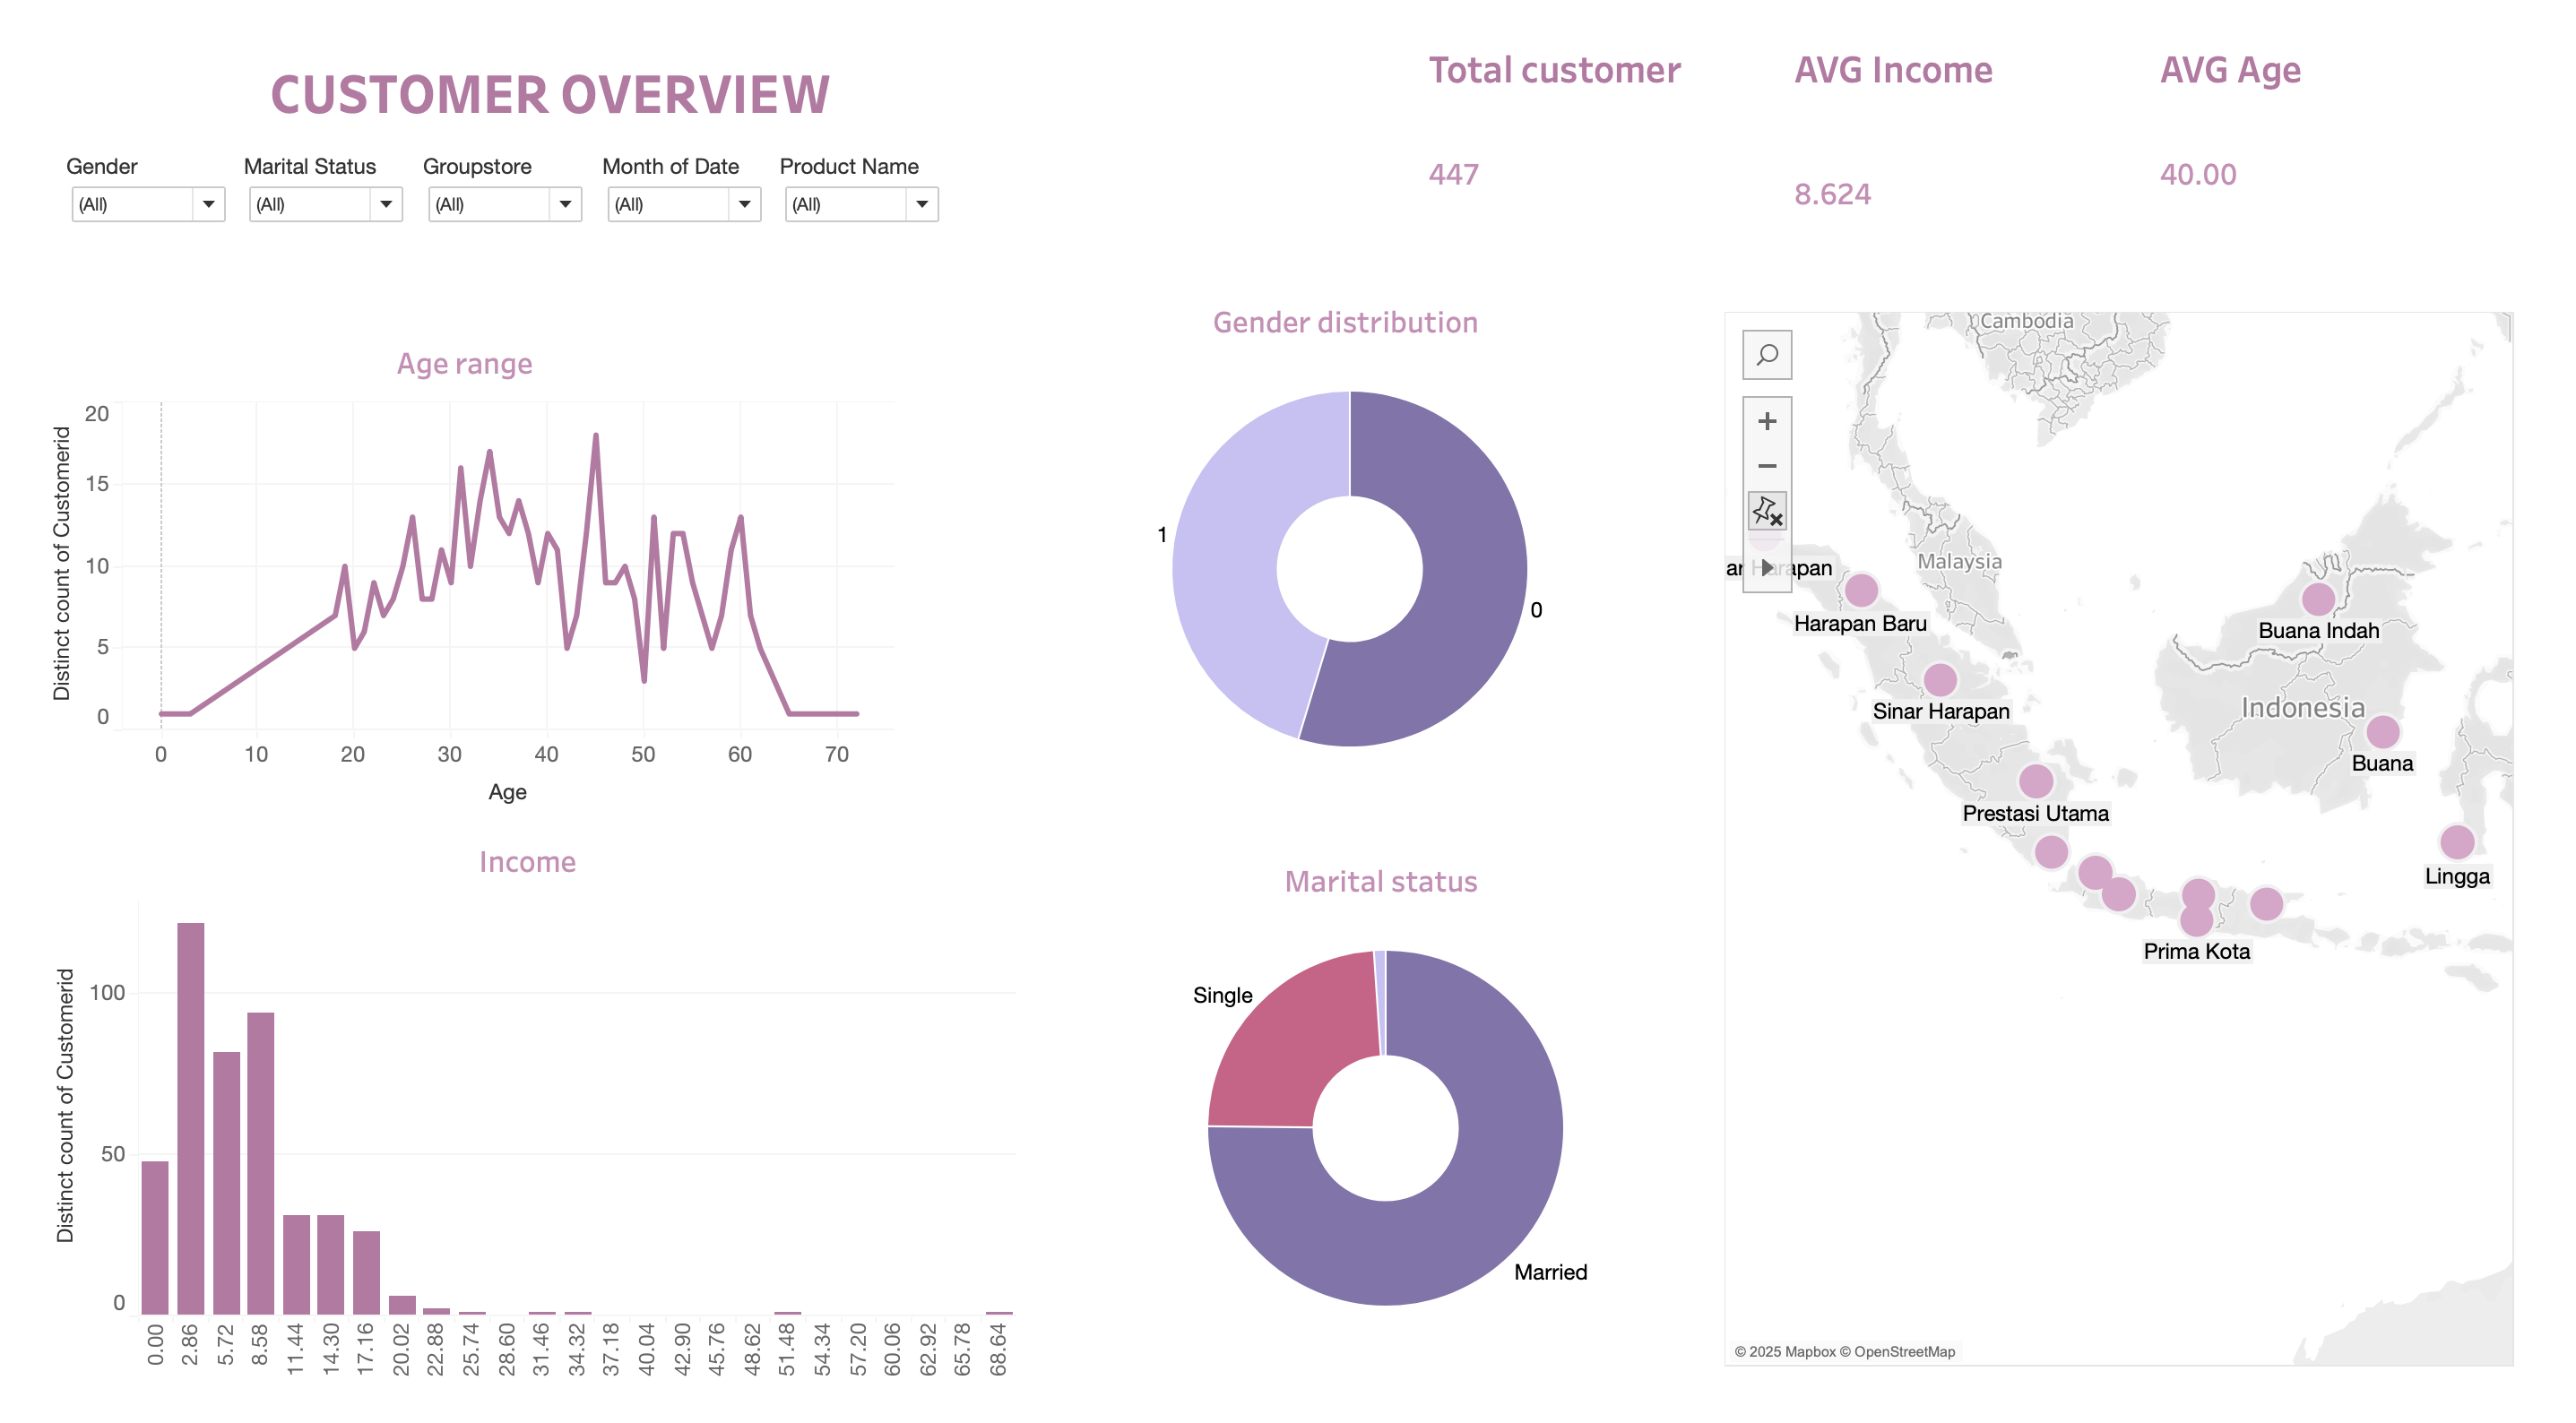

This screenshot's page, from the dashboard's own definition file:
{"tool":"tableau","page":{"name":"Customer overview","canvas":[1000,1000],"units":"permille","ordinal":0},"visuals":[{"type":"text","box":[24.4,0,378.4,130.2]},{"type":"worksheet","title":"Total customer","mark":"Automatic","box":[547.6,20.6,141.8,149.2]},{"type":"worksheet","title":"AVG Income","mark":"Automatic","box":[689.5,20.6,141.8,149.2]},{"type":"worksheet","title":"AVG Age","mark":"Automatic","box":[831.3,20.6,141.8,149.2]},{"type":"filter","title":" gender","param":"[federated.1lrnjxu1mu8r5l1h5now815nalnp].[none:gender:ok]","box":[22.8,103.2,69.2,81]},{"type":"filter","title":" gender","param":"[federated.1lrnjxu1mu8r5l1h5now815nalnp].[none:marital_status:nk]","box":[91.9,103.2,69.2,81]},{"type":"filter","title":" gender","param":"[federated.1lrnjxu1mu8r5l1h5now815nalnp].[none:groupstore:nk]","box":[161.1,103.2,69.2,81]},{"type":"filter","title":" gender","param":"[federated.1lrnjxu1mu8r5l1h5now815nalnp].[mn:date:ok]","box":[230.3,103.2,69.2,81]},{"type":"filter","title":" gender","param":"[federated.1lrnjxu1mu8r5l1h5now815nalnp].[none:product_name:nk]","box":[299.4,103.2,69.2,81]},{"type":"worksheet","title":" gender","box":[356.4,204.8,332.8,333.3]},{"type":"worksheet","title":"MAP","mark":"Automatic","rows":["latitude"],"cols":["longitude"],"box":[668,217.5,305.9,730.2]},{"type":"worksheet","title":" age","mark":"Automatic","rows":["customerid"],"cols":["age"],"box":[13.8,233.3,332.8,333.3]},{"type":"worksheet","title":"Income","mark":"Automatic","rows":["customerid"],"cols":["Income (bin)"],"box":[15.5,577.8,378.4,377.8]},{"type":"worksheet","title":" marital status","box":[370.2,592.1,332.8,333.3]}]}

Visuals, with their boxes on the dashboard's canvas, which has no fixed pixel size, in thousandths of its width and height (x1, y1, x2, y2). These are canvas units, not pixel positions in the 2576x1423 screenshot, which may show the page scaled, cropped or inside an application window:
text: BBox(24, 0, 403, 130)
"Total customer" worksheet: BBox(548, 21, 689, 170)
"AVG Income" worksheet: BBox(690, 21, 831, 170)
"AVG Age" worksheet: BBox(831, 21, 973, 170)
" gender" filter: BBox(23, 103, 92, 184)
" gender" filter: BBox(92, 103, 161, 184)
" gender" filter: BBox(161, 103, 230, 184)
" gender" filter: BBox(230, 103, 300, 184)
" gender" filter: BBox(299, 103, 369, 184)
" gender" worksheet: BBox(356, 205, 689, 538)
"MAP" worksheet: BBox(668, 218, 974, 948)
" age" worksheet: BBox(14, 233, 347, 567)
"Income" worksheet: BBox(16, 578, 394, 956)
" marital status" worksheet: BBox(370, 592, 703, 925)
